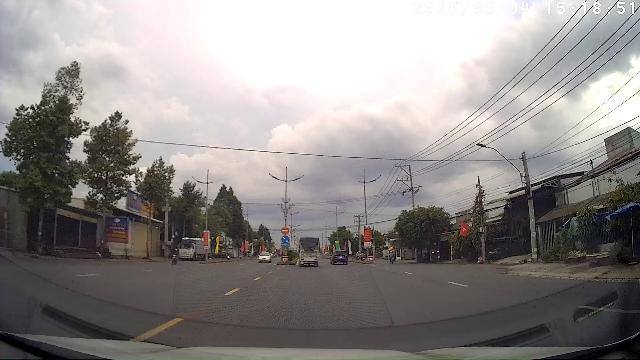102-cam-di-nguoc-chieu: (281, 227, 289, 235)
302a-huong-phai-di-vong-chuong-ngai-vat-1: (281, 235, 289, 243)
